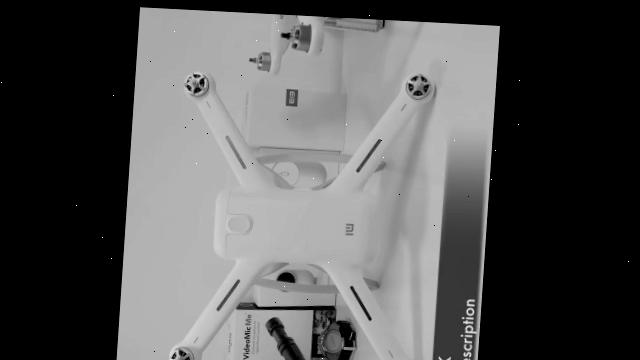drone: (166, 27, 448, 360)
